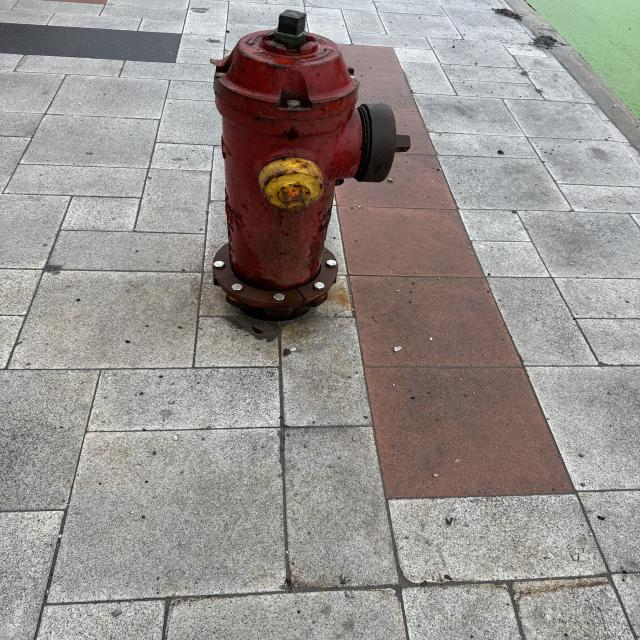Fire hydrant: (206, 9, 412, 322)
